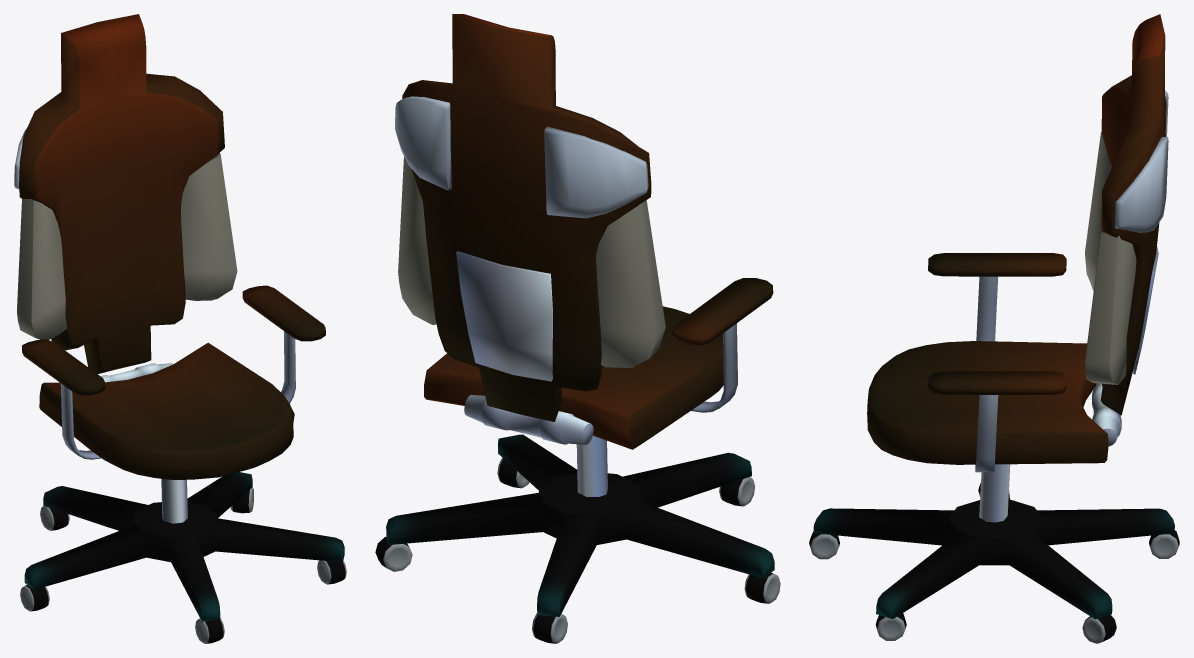
File: chair.glb
3 views of the same model, side by side, from view 1: azimuth 30°, elevation 25°; view 2: azimuth 150°, elevation 25°; view 3: azimuth 270°, elevation 25° (orthographic). The views are drawn at different scales.
Parts seen in each view (by area): view 1: chair; view 2: chair; view 3: chair.
Boxes of the visible parts, box(x1,y1,x2,y2) form: chair: box(14, 14, 346, 643); chair: box(375, 14, 780, 643); chair: box(809, 14, 1179, 643).
Bounding box in the file's own units: 0.9556 × 1.63 × 1.01.
1 material, 1 textured.
